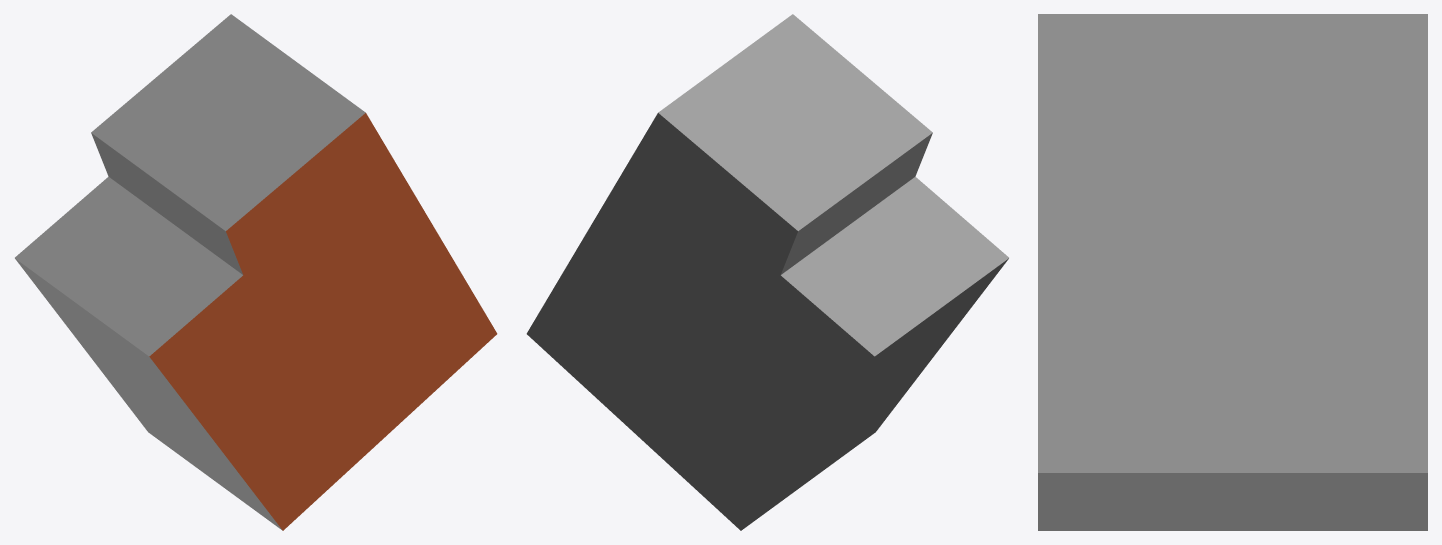
The model's file is construction_1137_assumed_A_Casa_h6m.obj.
The picture shows the model from 3 angles, left to right: view 1: azimuth 30°, elevation 25°; view 2: azimuth 150°, elevation 25°; view 3: azimuth 270°, elevation 25°; orthographic projection. The views are drawn at different scales.
Visible parts, largest first — view 1: construction_1137_assumed_A_Casa; view 2: construction_1137_assumed_A_Casa; view 3: construction_1137_assumed_A_Casa.
Part boxes in pixels (box(x1,y1,x2,y2)): construction_1137_assumed_A_Casa: box(15, 14, 497, 530); construction_1137_assumed_A_Casa: box(526, 14, 1008, 530); construction_1137_assumed_A_Casa: box(1038, 14, 1427, 530).
Size of the model in its own units: 8.95 by 9.77 by 6.
